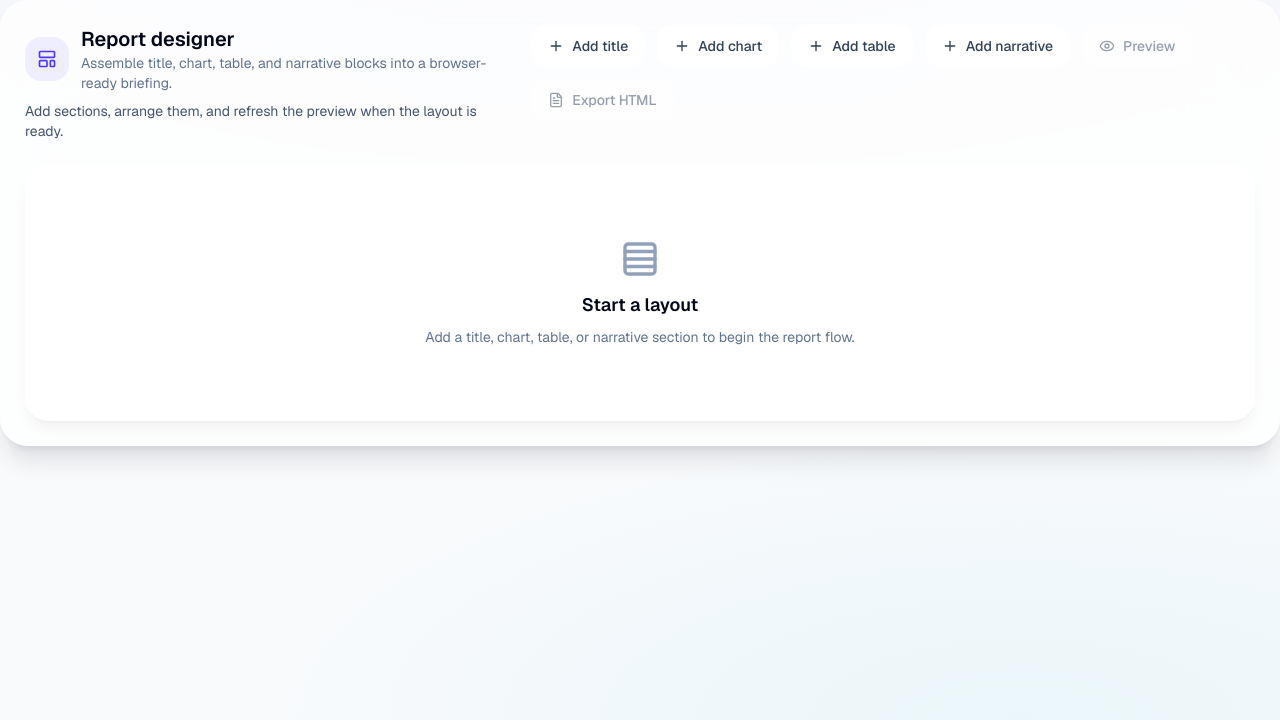
Scenario: ReportDesigner › reorders and removes sections in designer mode
Click the button "Add title". click: (588, 46)
box: left=531, top=25, right=645, bottom=67
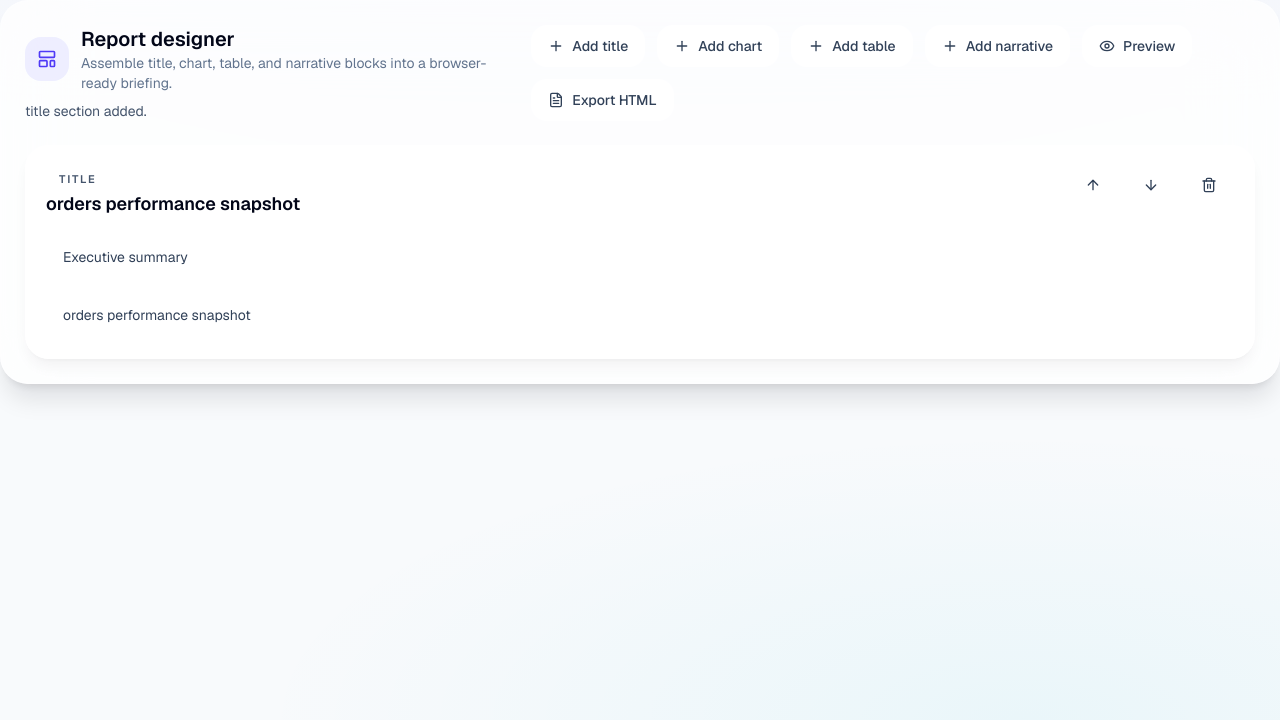
Click the button "Add narrative". click: (997, 46)
box: left=925, top=25, right=1070, bottom=67
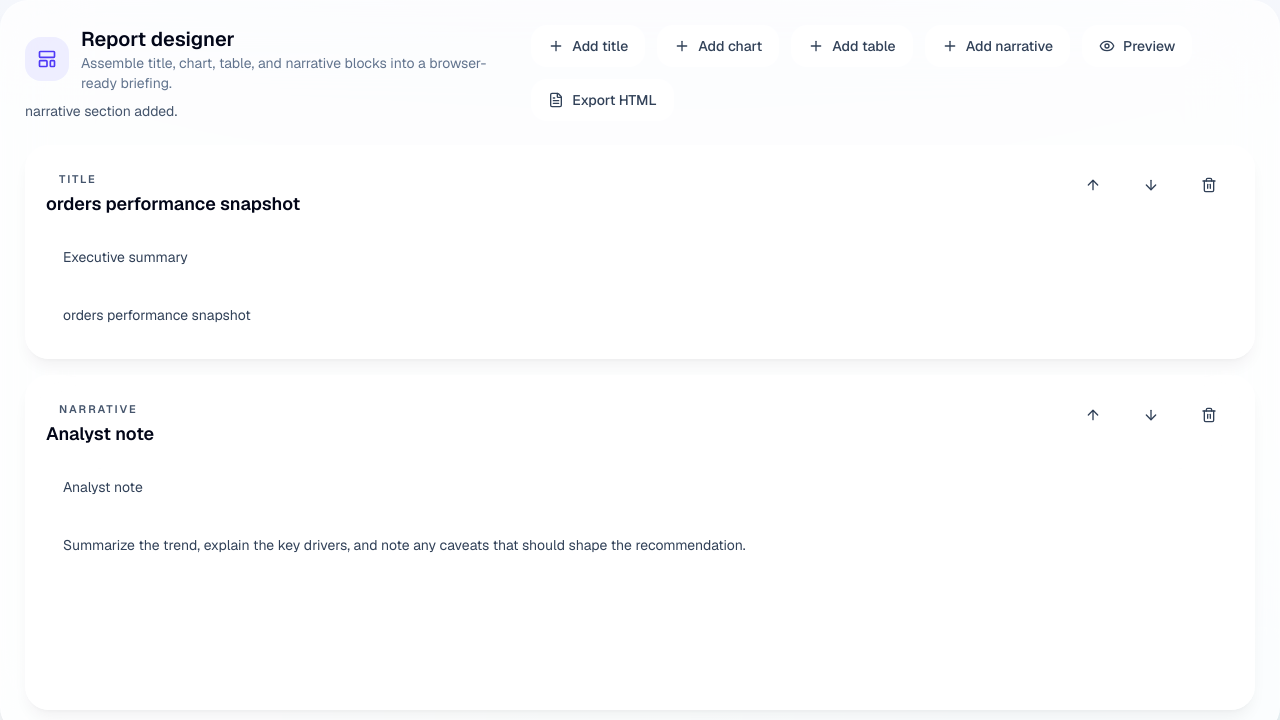
Click the button named "Move section up" in the row of "Analyst note". click: (1093, 415)
box: left=1068, top=396, right=1118, bottom=434
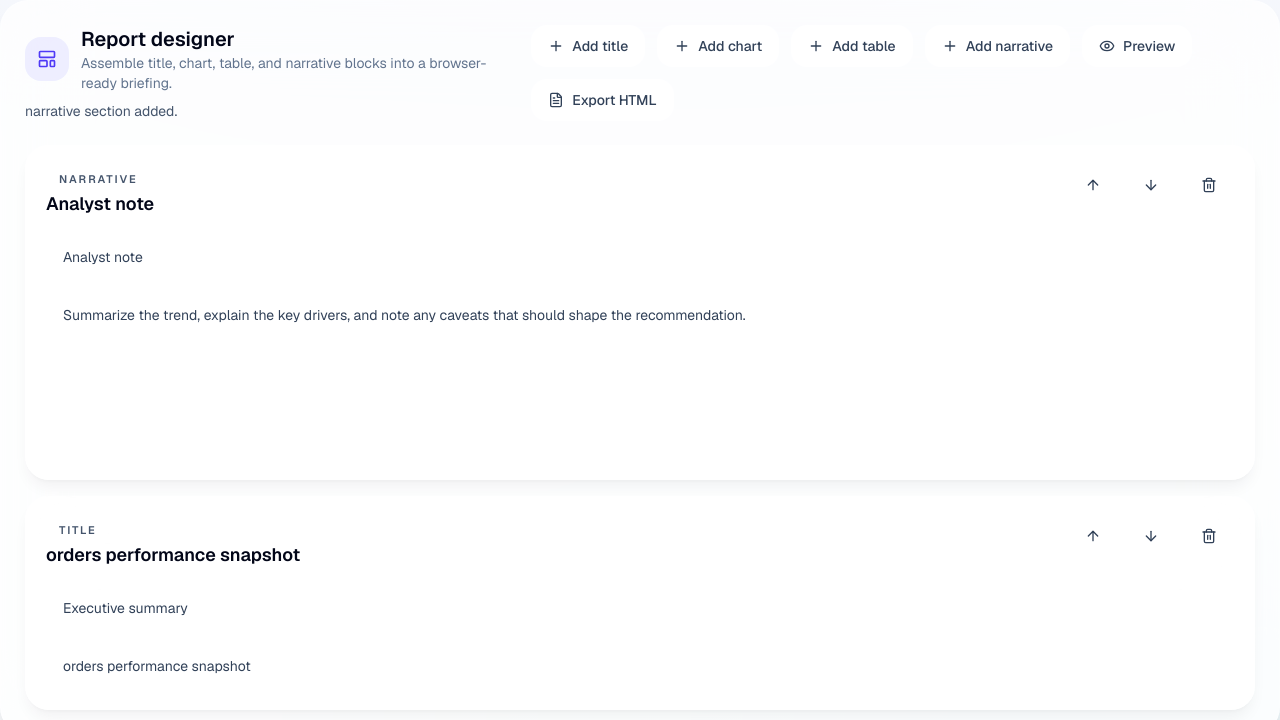
Expected: the element with test id "section-card" shows "Analyst note", left=46, top=192, right=154, bottom=215
Click the button named "Remove section" in the row of "Analyst note". click: (1209, 185)
box: left=1184, top=166, right=1234, bottom=204
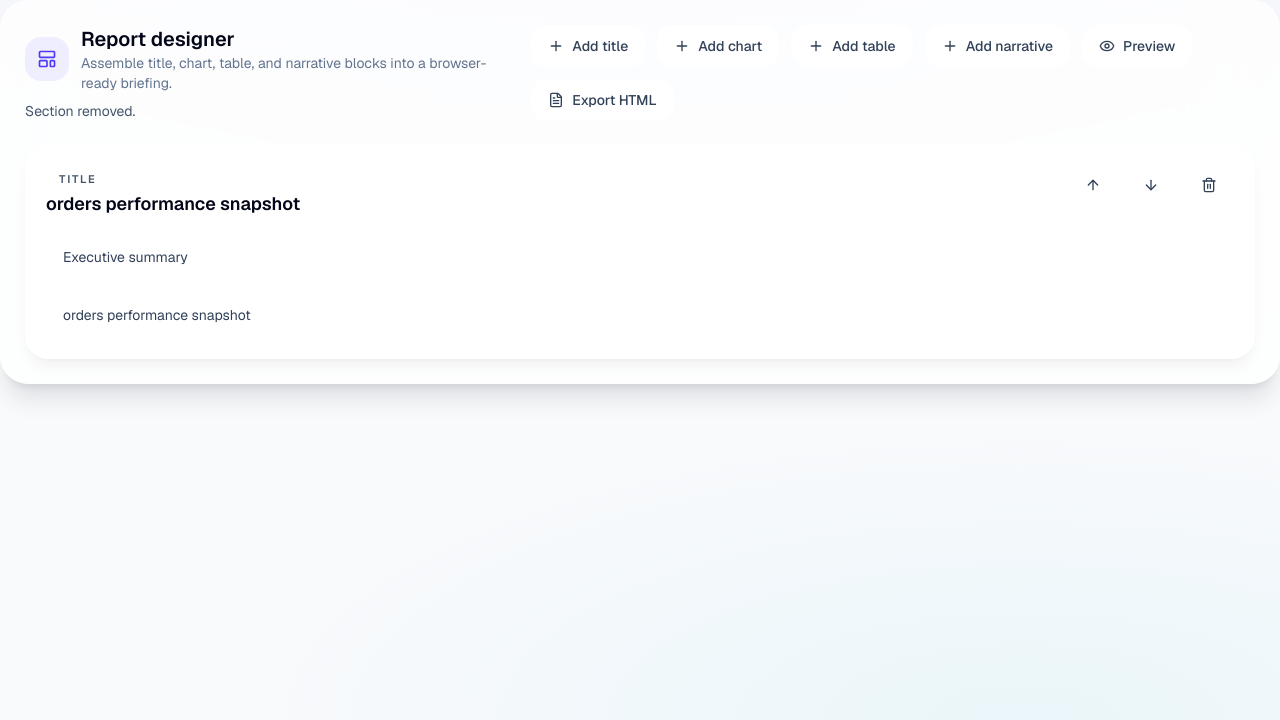
Expected: the number of elements with test id "section-card" is 1, left=25, top=145, right=1255, bottom=359
